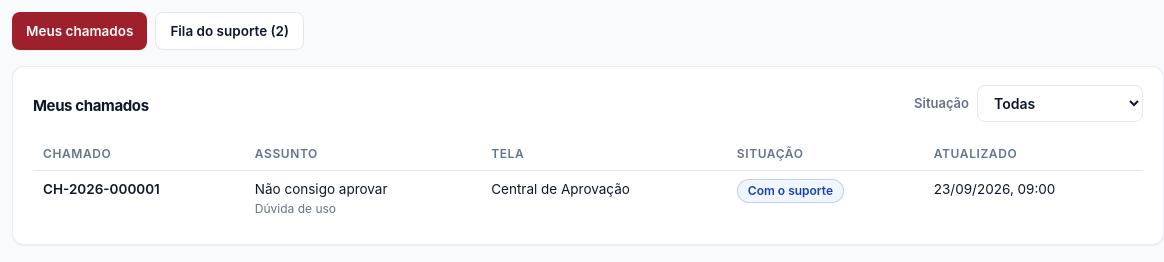
Test case: <MeusChamados /> › quem atende vê a fila com o número e com quem abriu
Click the tab "Fila do suporte (2)" at (230, 31), box [155,12,304,50]
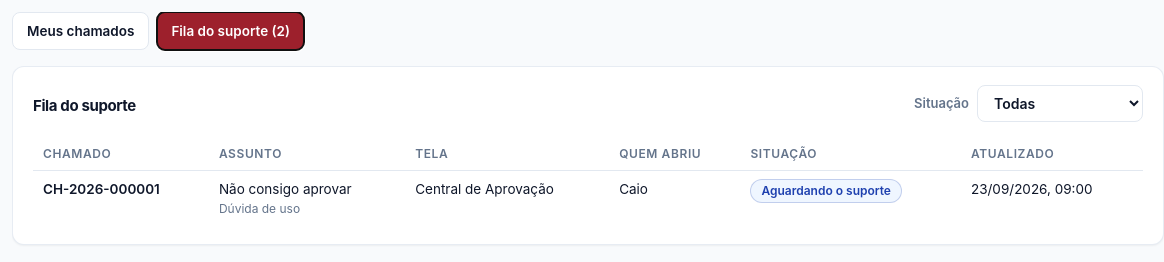
Result: the text "Caio" is shown at [609,171,740,226]
Result: the text "Aguardando o suporte" is shown at [750,179,902,203]
